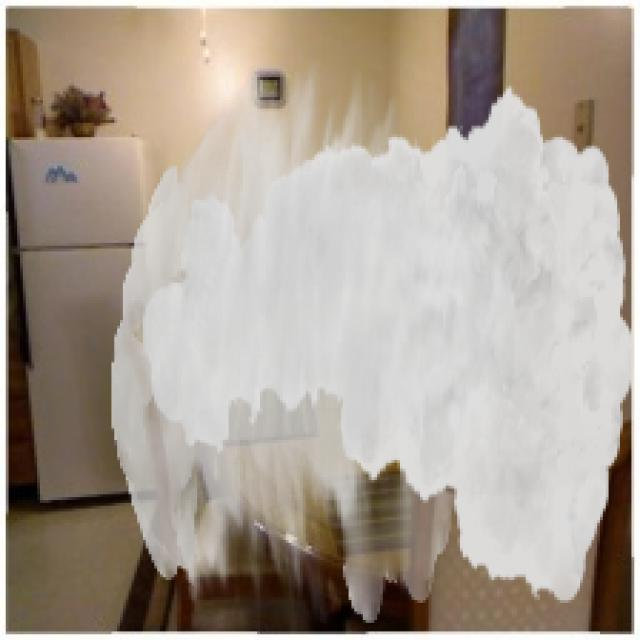smoke: (111, 63, 634, 623)
